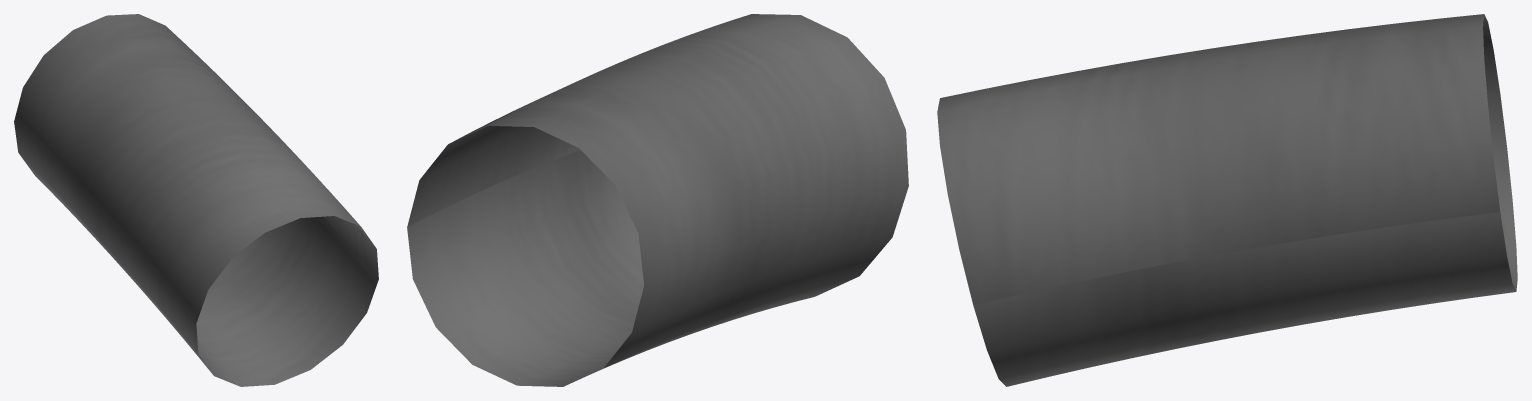
Rendered from mastarmcurve_4x1_c3.obj.
3 renders of one model, left to right at view 1: azimuth 30°, elevation 25°; view 2: azimuth 150°, elevation 25°; view 3: azimuth 270°, elevation 25°, orthographic. The views are drawn at different scales.
Visible parts, largest first — view 1: mastarm_4x1_c3; view 2: mastarm_4x1_c3; view 3: mastarm_4x1_c3.
Part boxes in pixels (x1=…): mastarm_4x1_c3: x1=14, y1=14, x2=378, y2=386; mastarm_4x1_c3: x1=407, y1=14, x2=908, y2=386; mastarm_4x1_c3: x1=937, y1=14, x2=1517, y2=386.
Size of the model in its own units: 0.5625 by 0.7239 by 1.1.
